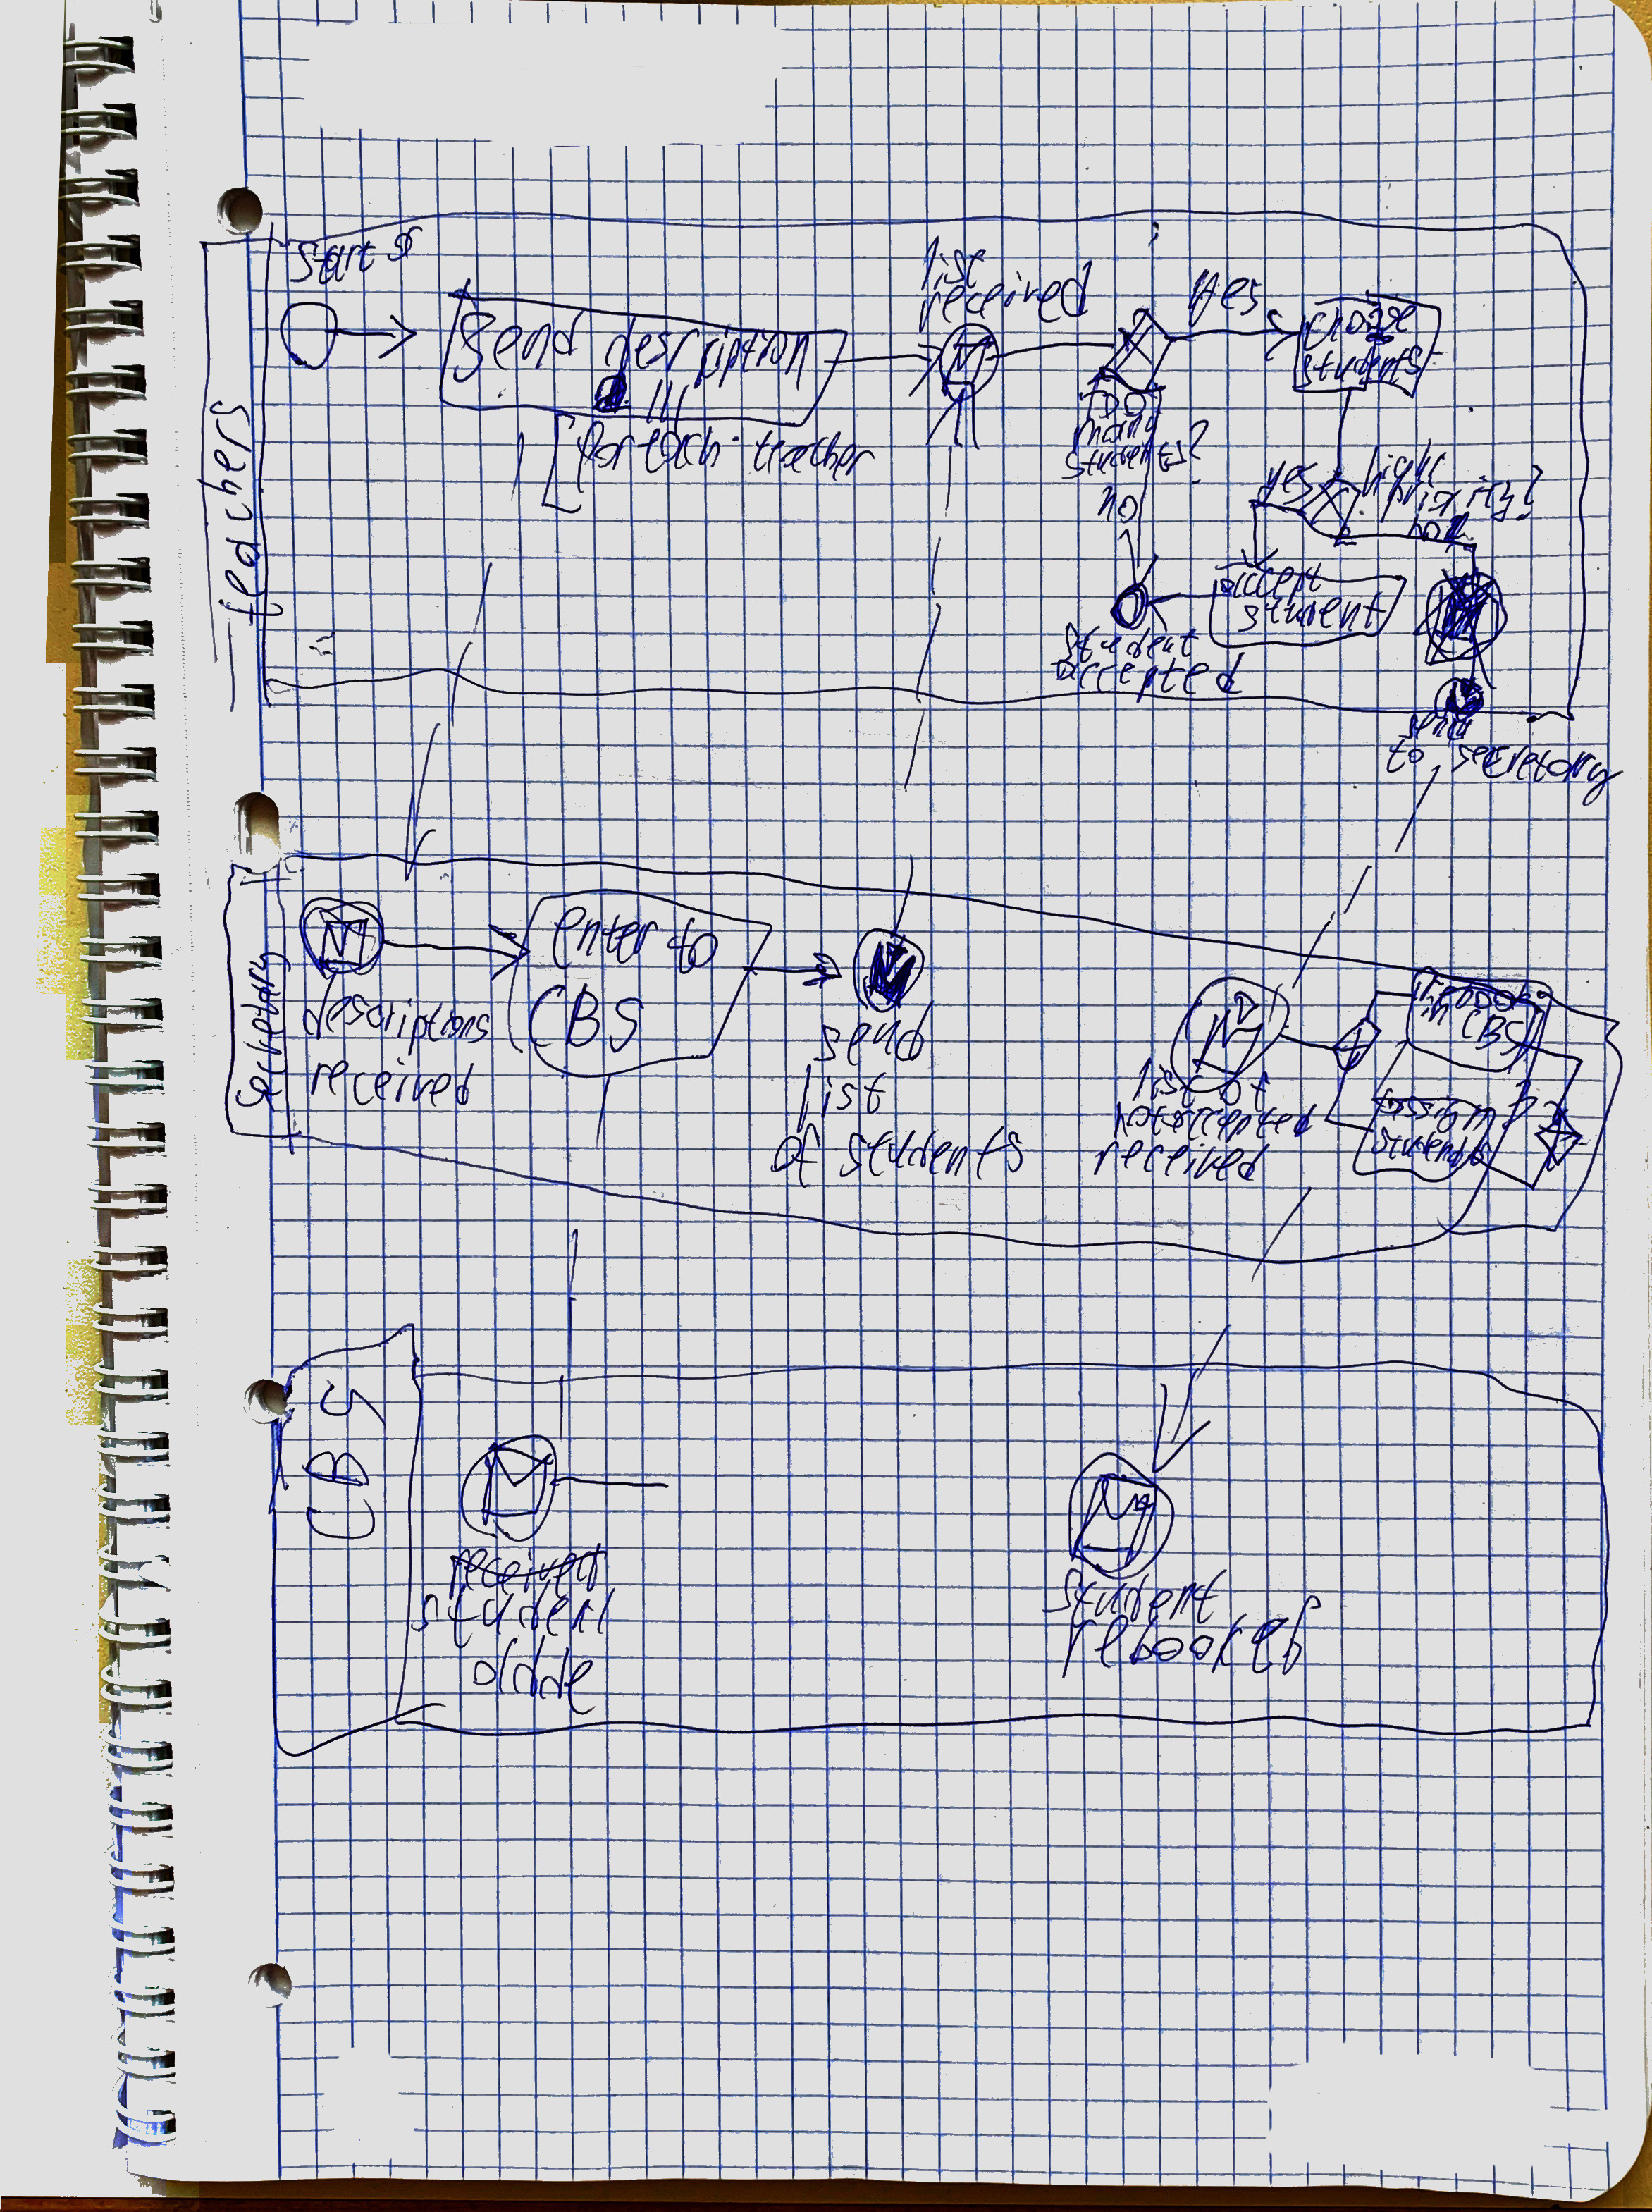CBS: (301, 1383, 386, 1542), (526, 984, 645, 1052), (1471, 1003, 1535, 1045)
III: (648, 379, 693, 431)
Sart: (292, 237, 376, 284)
Student: (1061, 625, 1199, 661)
accept: (1221, 562, 1326, 596)
accepted: (1054, 652, 1246, 706), (1129, 1105, 1318, 1140)
adde: (480, 1623, 609, 1702)
assign: (1390, 1083, 1493, 1118)
choose: (1303, 305, 1417, 352)
description: (603, 315, 810, 384)
descriptions: (301, 968, 491, 1055)
each: (640, 429, 722, 470)
enter: (550, 905, 658, 966)
for: (577, 419, 634, 494)
in: (1428, 993, 1457, 1024)
light: (1360, 438, 1448, 495)
list: (794, 1064, 890, 1131), (914, 235, 985, 288), (1142, 1055, 1207, 1102)
many: (1070, 416, 1159, 451)
no: (1098, 482, 1139, 524), (1409, 516, 1441, 541)
not: (1112, 1105, 1167, 1140)
of: (770, 1125, 820, 1187), (1220, 1070, 1268, 1113), (393, 224, 424, 263)
priority?: (1379, 465, 1543, 521)
rebook: (1420, 968, 1531, 1002)
rebooked: (1057, 1611, 1320, 1684)
received: (911, 287, 1092, 341), (313, 1045, 479, 1095), (1091, 1141, 1271, 1182)
secretary: (1451, 739, 1625, 795), (235, 952, 290, 1116)
send: (453, 309, 587, 383), (815, 1000, 935, 1064), (1403, 716, 1473, 739)
student: (409, 1583, 617, 1649), (1044, 1570, 1226, 1625), (1240, 592, 1386, 634), (1378, 1119, 1474, 1155)
students: (841, 1128, 1025, 1178), (1300, 345, 1424, 388)
students?: (1056, 450, 1216, 491)
teacher: (753, 427, 873, 479)
teachers: (194, 400, 283, 627)
to: (665, 916, 721, 973), (1386, 739, 1426, 774)
too: (1079, 380, 1147, 418)
yes: (1187, 271, 1262, 326), (1255, 458, 1317, 503)
